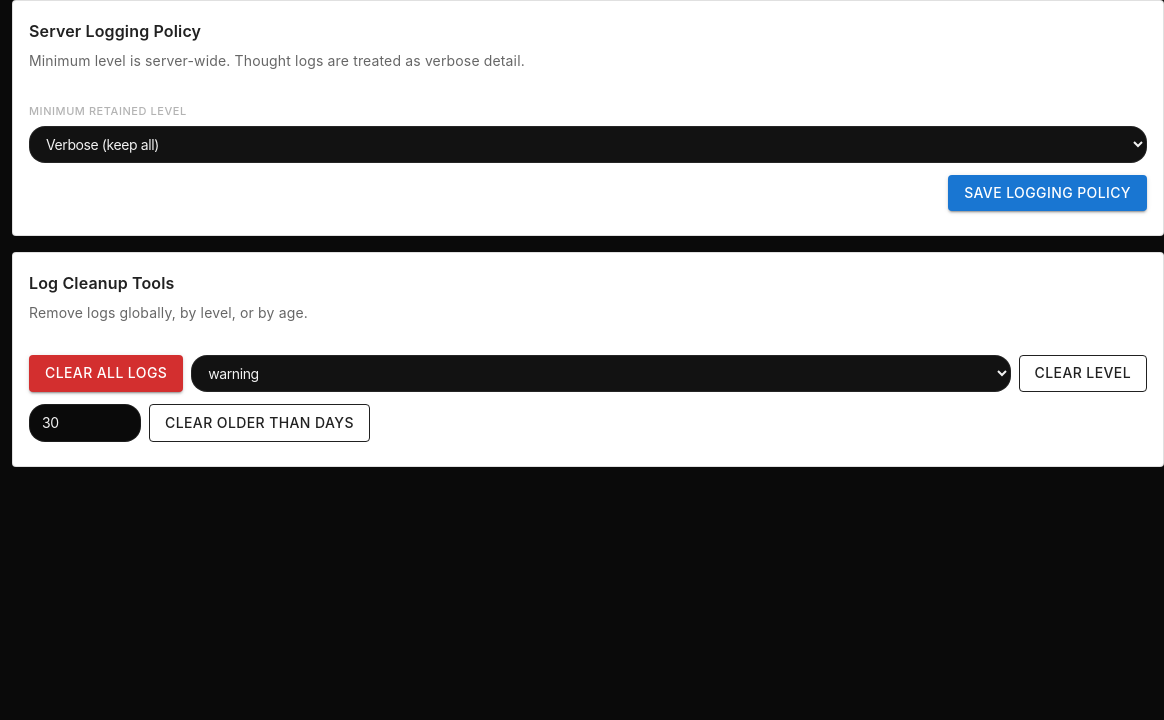
Test: LoggingConfig — interactions › shows deleted count message after clearing logs
This screenshot has width=1164, height=720.
Click the button "Clear All Logs": (106, 374) left=29, top=355, right=183, bottom=392
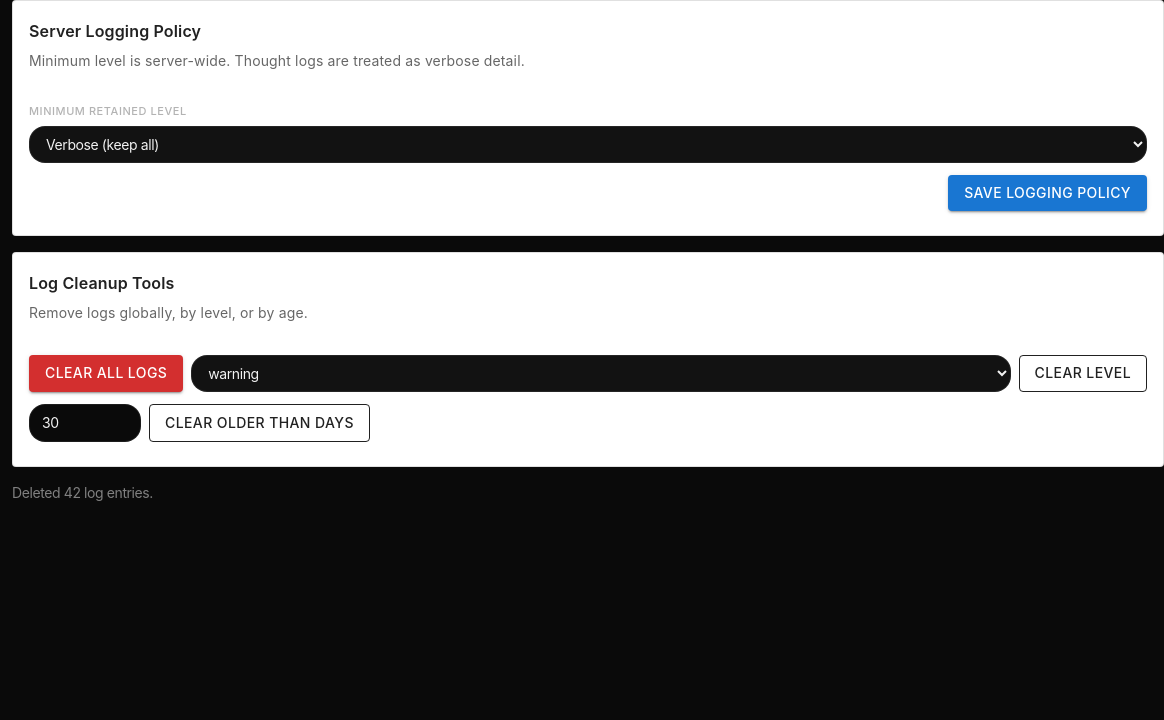
expect the text "Deleted 42 log entries." is shown: met, box left=12, top=484, right=153, bottom=501
